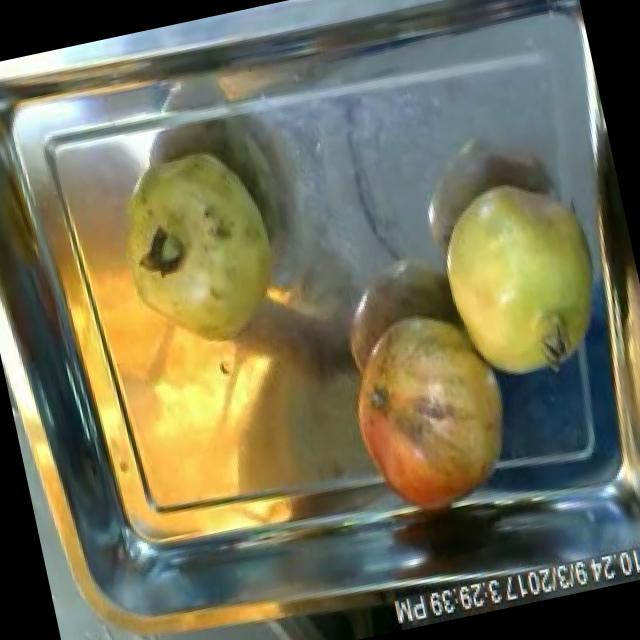fruit: (414, 150, 628, 399), (89, 120, 300, 368), (325, 289, 534, 533)
